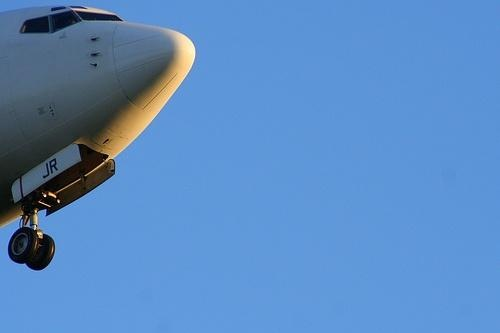aeroplane: (2, 8, 197, 280)
